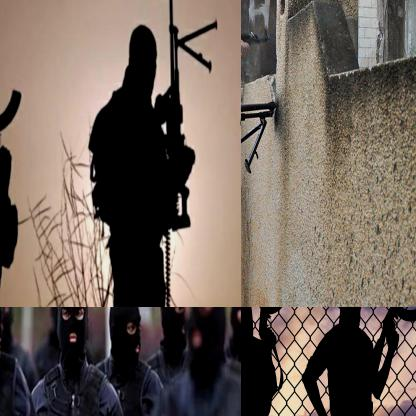rifle: (156, 0, 207, 231), (0, 21, 24, 155), (241, 88, 280, 166), (241, 23, 273, 87), (378, 307, 415, 349), (256, 307, 290, 344)
